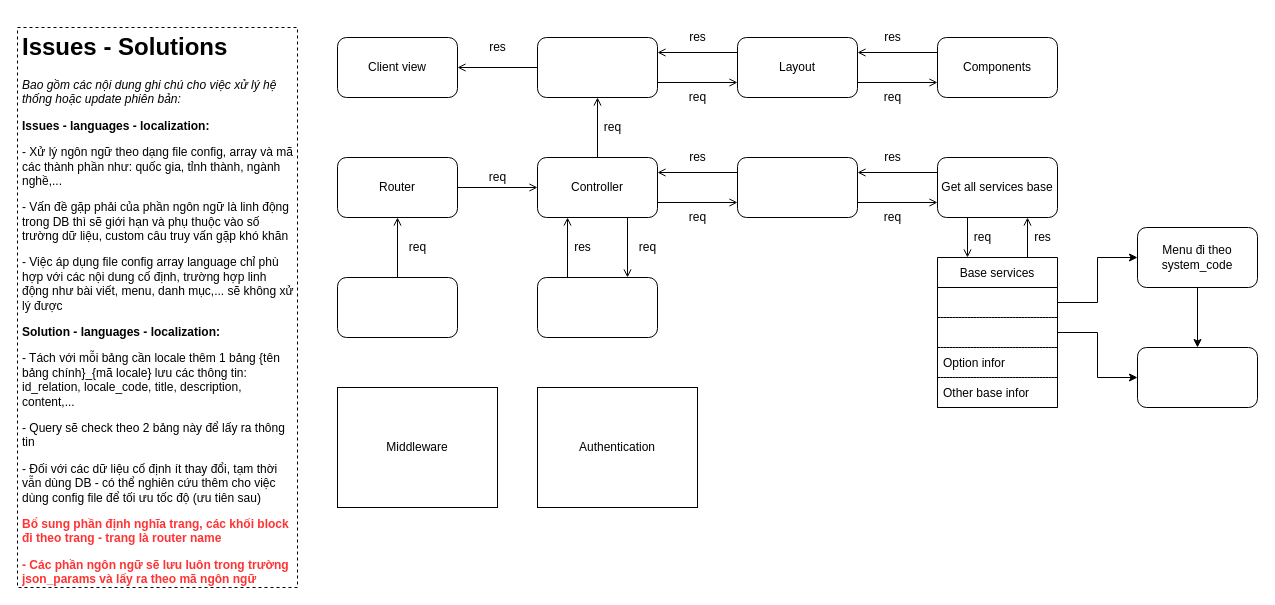
This 1275x605 diagram has some shape labels left out. The centre of each missing label's shape, as x and y in pixels:
"BaseController" goes at (797,187).
"Block content" goes at (997,332).
"Block đi theo page (route)" goes at (1197,377).
"Client request" goes at (397,307).
"Menu" goes at (997,302).
"Other services in this controller" goes at (597,307).
"Pages" goes at (597,67).
